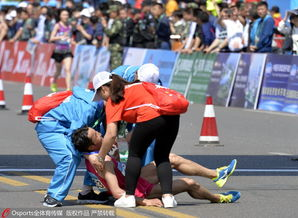10+: (5, 5, 298, 192)
down: (57, 123, 252, 207)
